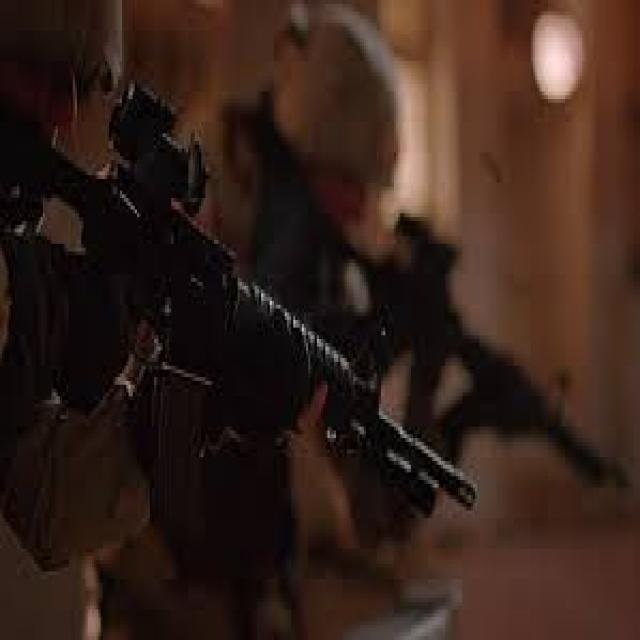weapon: (4, 76, 476, 546)
